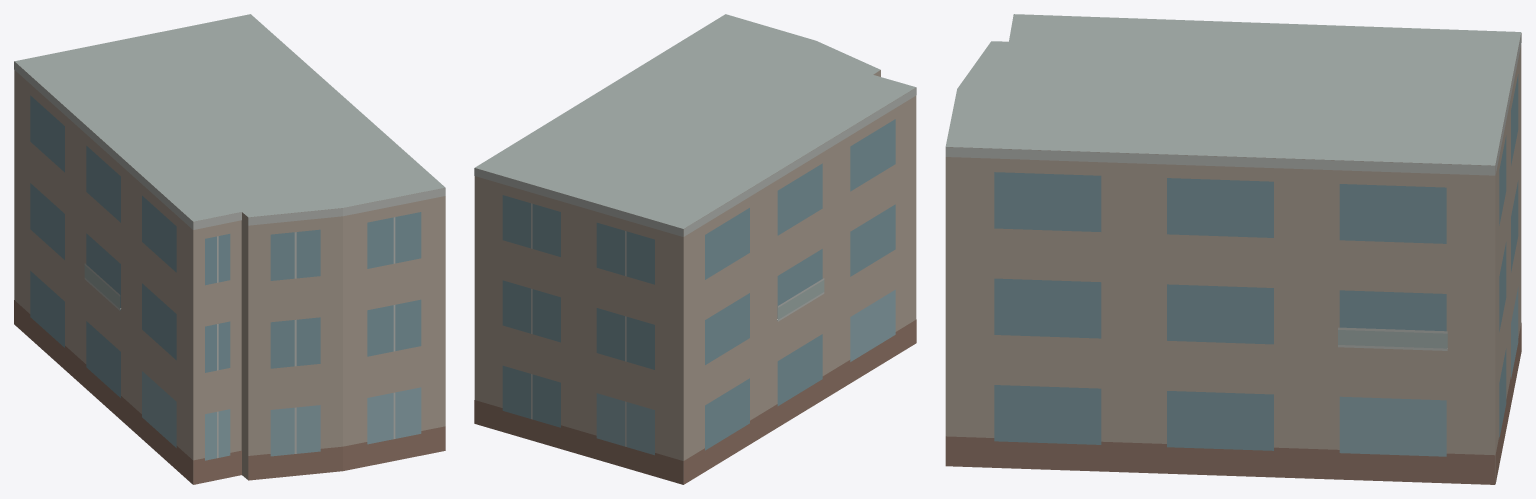
The model's file is survey-upis-32672525.glb.
3 renders of one model, left to right at view 1: azimuth 30°, elevation 25°; view 2: azimuth 150°, elevation 25°; view 3: azimuth 270°, elevation 25°, orthographic. The views are drawn at different scales.
Parts seen in each view (by area): view 1: survey-upis-32672525.tmp; view 2: survey-upis-32672525.tmp; view 3: survey-upis-32672525.tmp.
Boxes of the visible parts, box(x1,y1,x2,y2) form: survey-upis-32672525.tmp: box(14, 14, 445, 484); survey-upis-32672525.tmp: box(474, 14, 916, 484); survey-upis-32672525.tmp: box(945, 14, 1521, 484).
Bounding box in the file's own units: 7.85 × 7.7 × 12.6.
